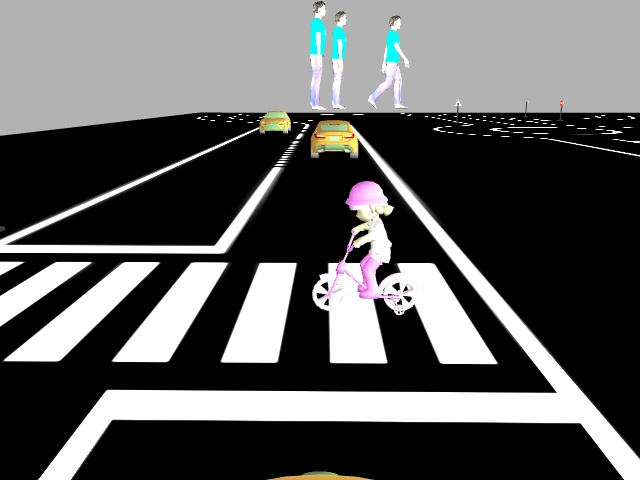Pedestrian: (310, 178, 425, 315)
